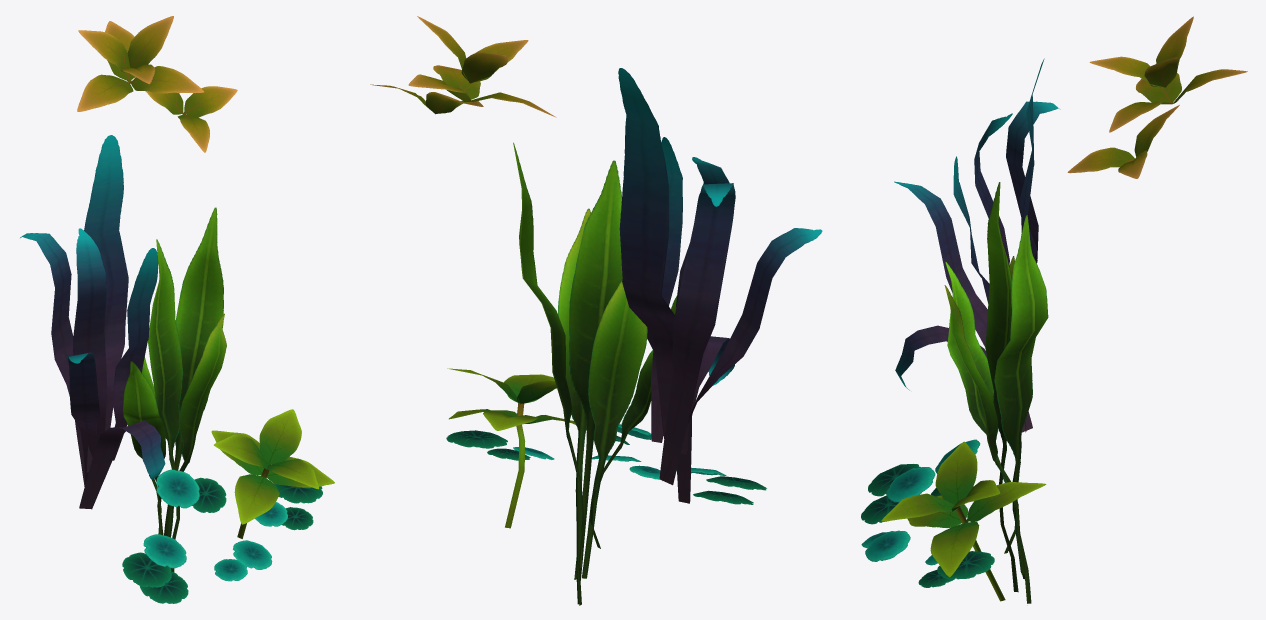
The model's file is aquatic-stem-tuft.glb.
3 views of the same model, side by side, from view 1: azimuth 30°, elevation 25°; view 2: azimuth 150°, elevation 25°; view 3: azimuth 270°, elevation 25° (orthographic). The views are drawn at different scales.
Parts seen in each view (by area): view 1: Minimassyurumu28__mAquariumPlant; view 2: Minimassyurumu28__mAquariumPlant; view 3: Minimassyurumu28__mAquariumPlant.
Part boxes in pixels (x1,y1,x2,y2): Minimassyurumu28__mAquariumPlant: (20, 16, 334, 603); Minimassyurumu28__mAquariumPlant: (370, 16, 822, 605); Minimassyurumu28__mAquariumPlant: (861, 16, 1247, 603).
Bounding box in the file's own units: 0.5889 × 1 × 0.6054.
1 material, 1 textured.
